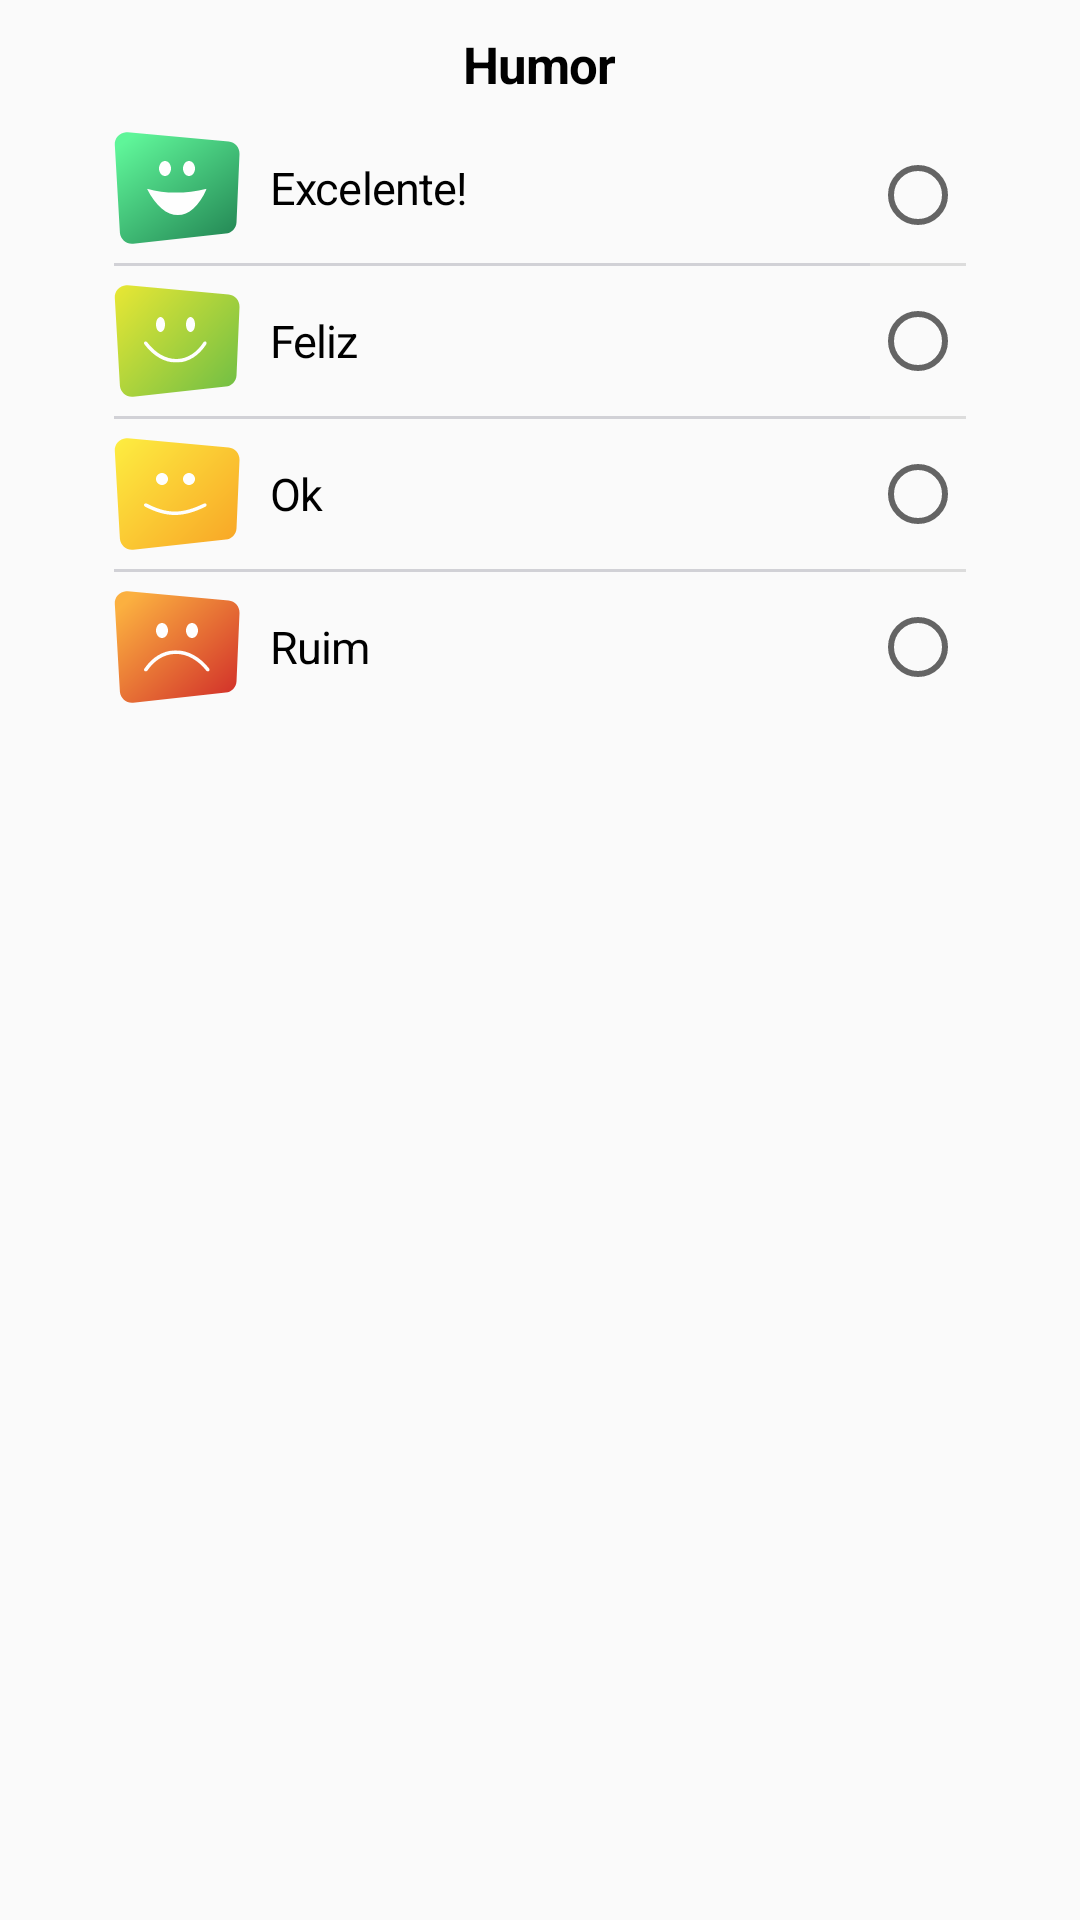

Icons on this 1080 x 1920 Android screen, each with the point to tap as point (x, y):
humor bad: point (177, 647)
humor exc: point (177, 188)
humor happy: point (177, 341)
humor ok: point (177, 494)
